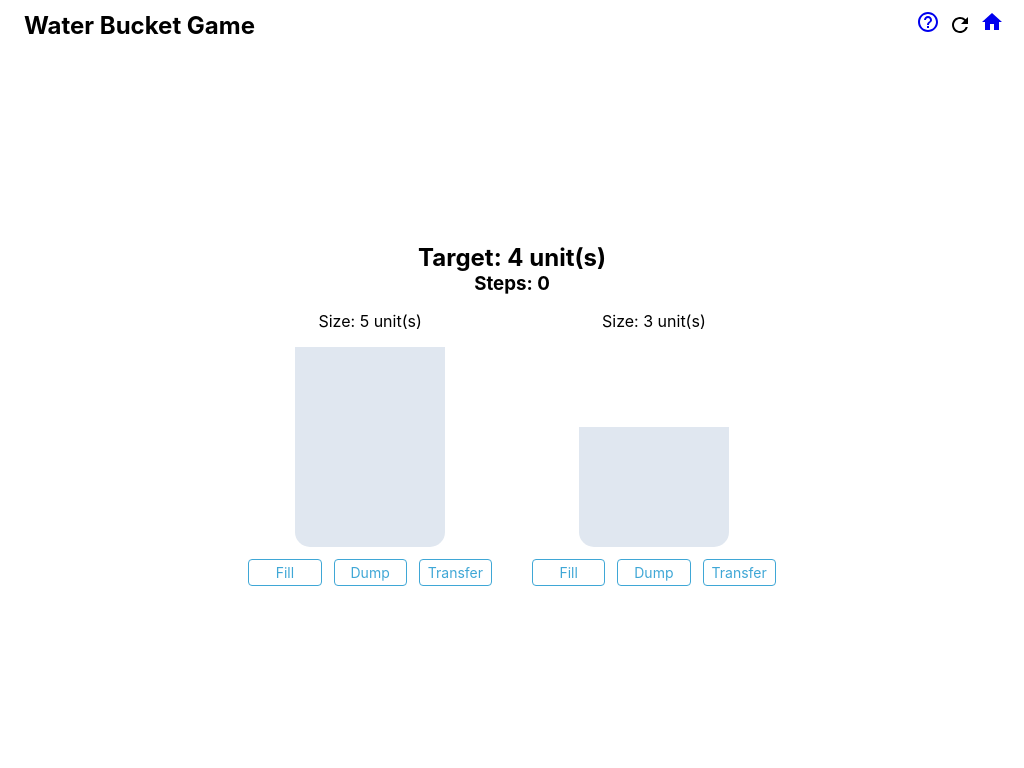
Test: <BucketGame> › shows winner text when the game is won
What coordinates should you click on to do the following:
click the 1st button "Fill"
I would click on:
 (285, 572)
Its box is x1=248 y1=558 x2=322 y2=586.
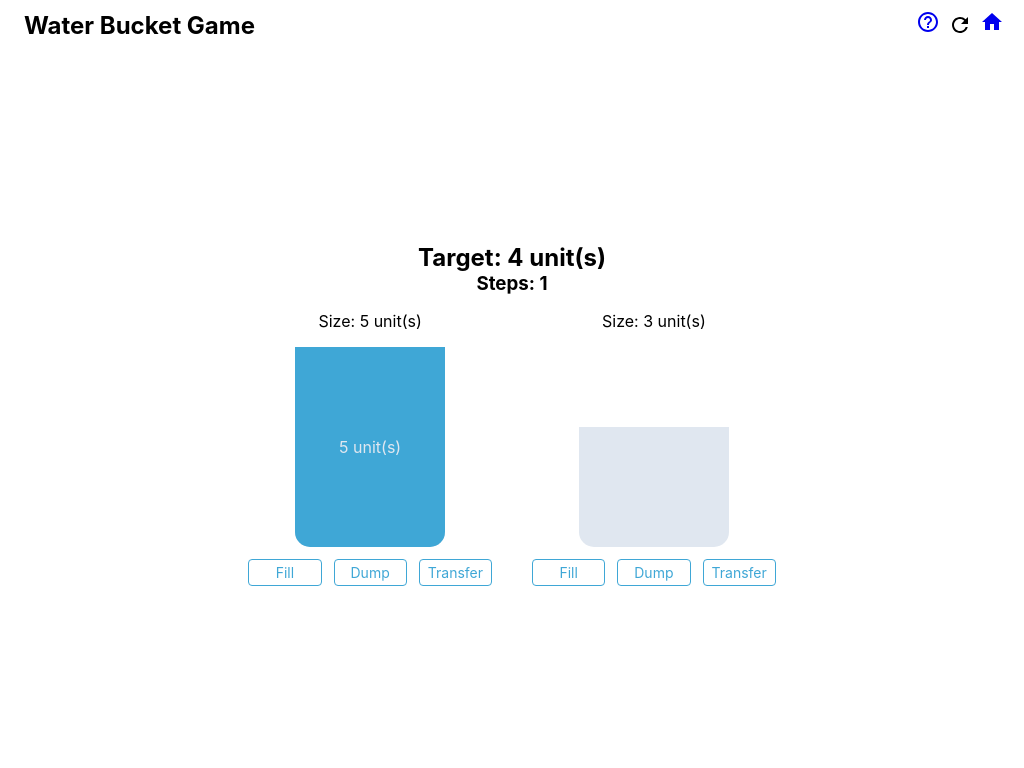
What coordinates should you click on to do the following:
click the 1st button "Transfer"
I would click on:
 (455, 572)
Its box is x1=419 y1=558 x2=492 y2=586.
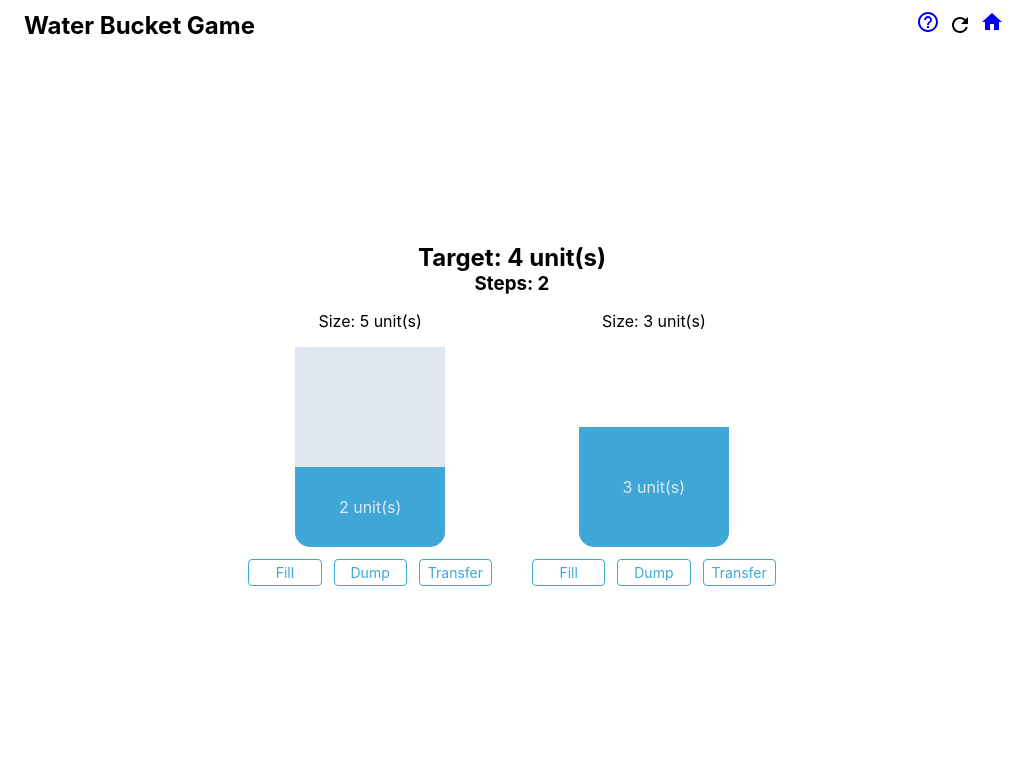
What coordinates should you click on to do the following:
click the 2nd button "Dump"
I would click on:
 (654, 572)
Its box is x1=617 y1=558 x2=691 y2=586.
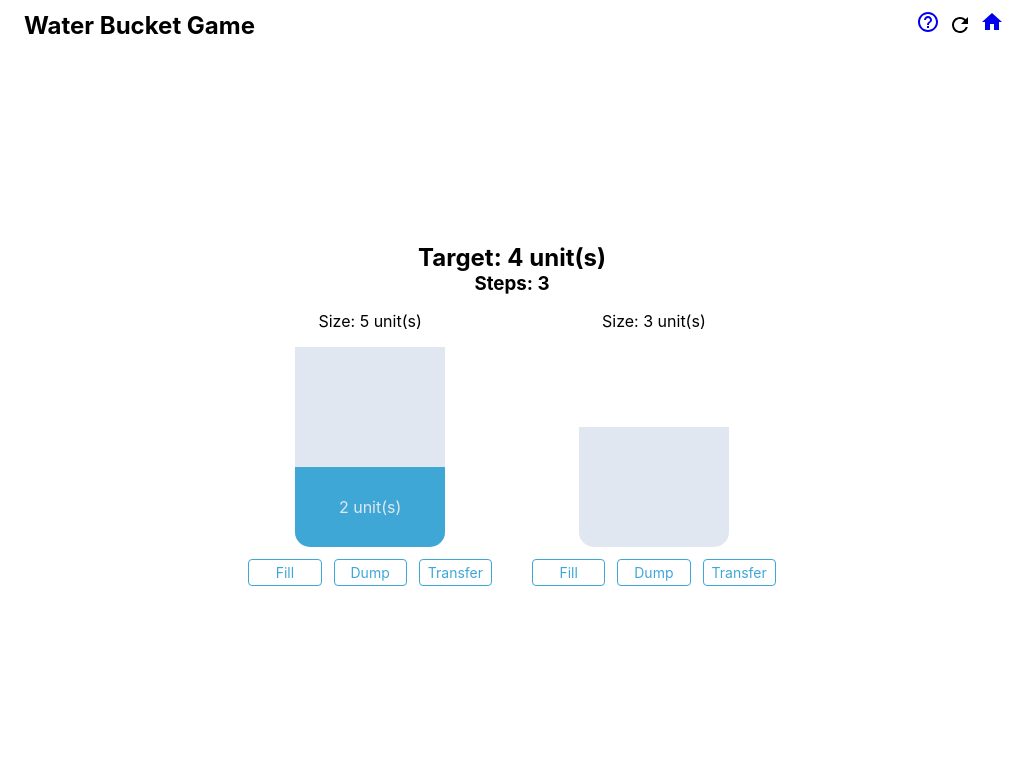
What coordinates should you click on to do the following:
click the button "Transfer" below "2 unit(s)"
I would click on:
 (455, 572)
Its box is x1=419 y1=558 x2=492 y2=586.
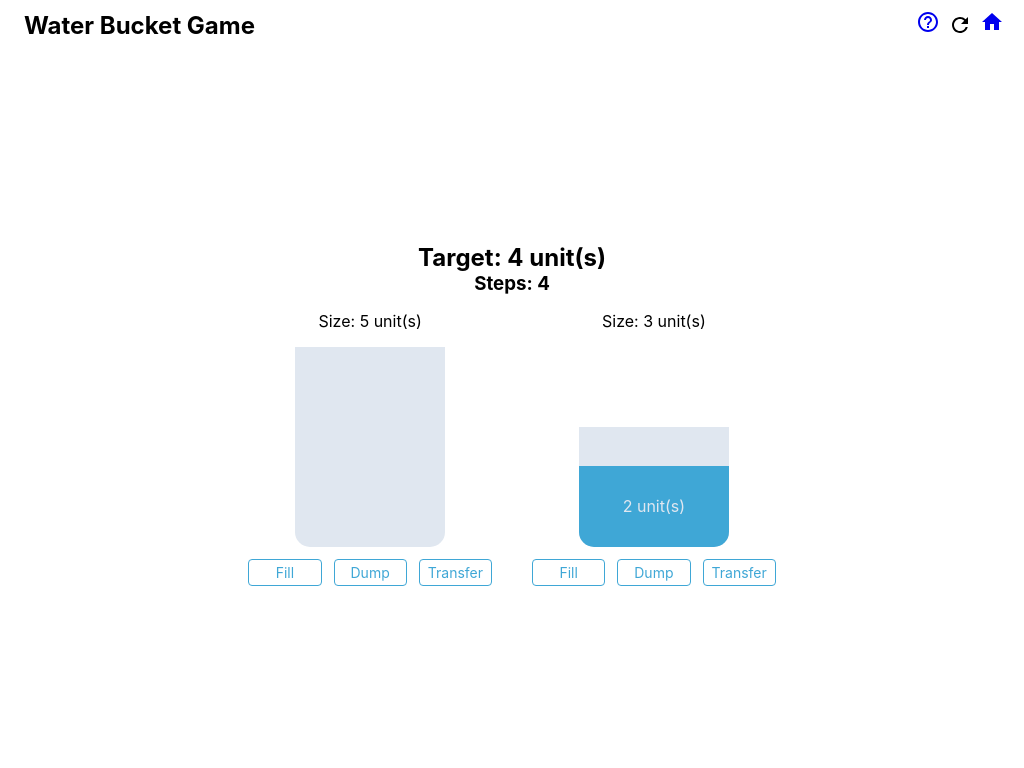
What coordinates should you click on to do the following:
click the 1st button "Fill"
I would click on:
 (285, 572)
Its box is x1=248 y1=558 x2=322 y2=586.
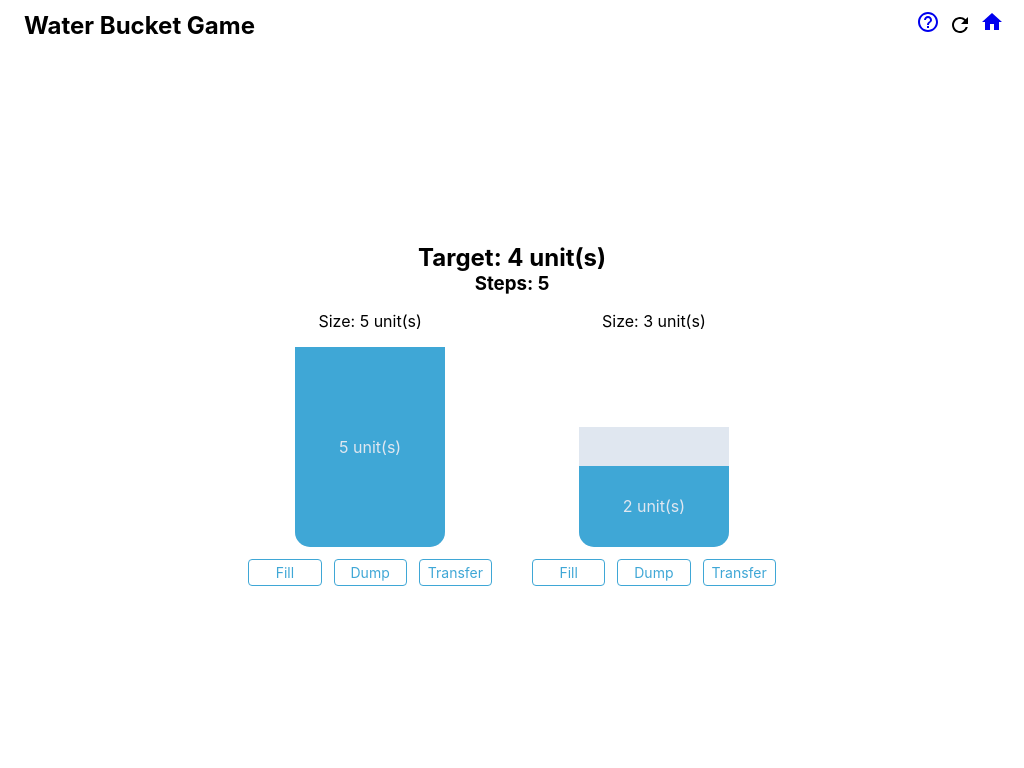
What coordinates should you click on to do the following:
click the 1st button "Transfer"
I would click on:
 (455, 572)
Its box is x1=419 y1=558 x2=492 y2=586.
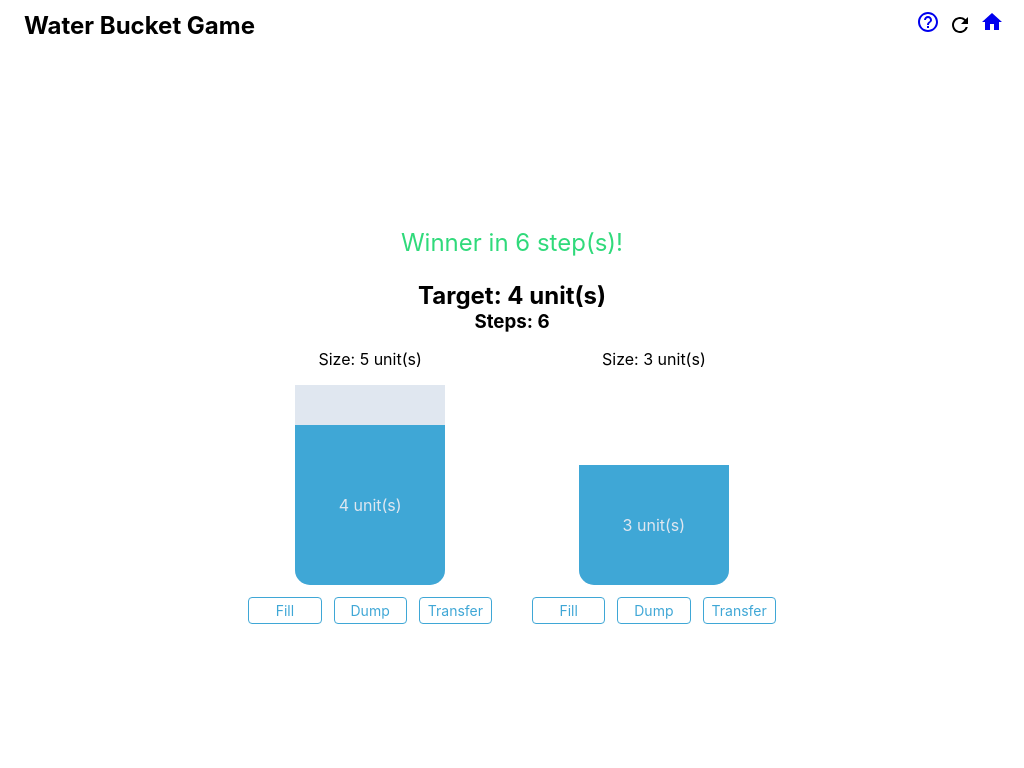
expect the text "Winner in 6 step(s)!" is shown: met, box x1=401 y1=228 x2=623 y2=257
